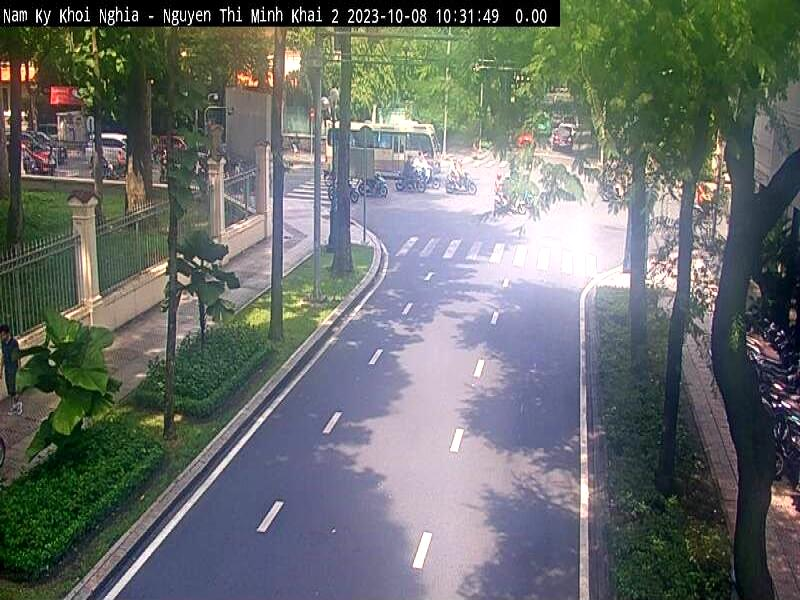bus: (323, 121, 442, 184)
